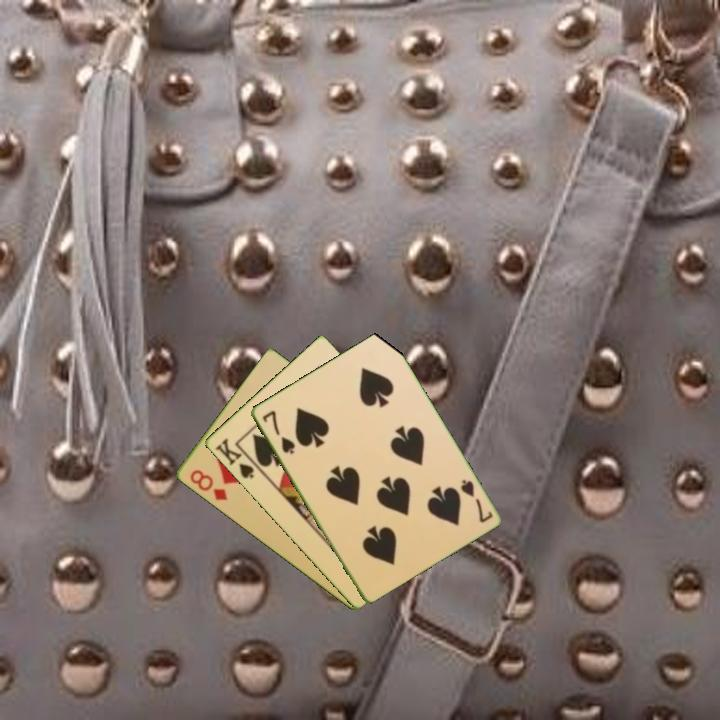7s: (258, 407, 298, 457), (457, 476, 495, 526)
8d: (186, 466, 230, 504)
Ks: (211, 434, 262, 482)
